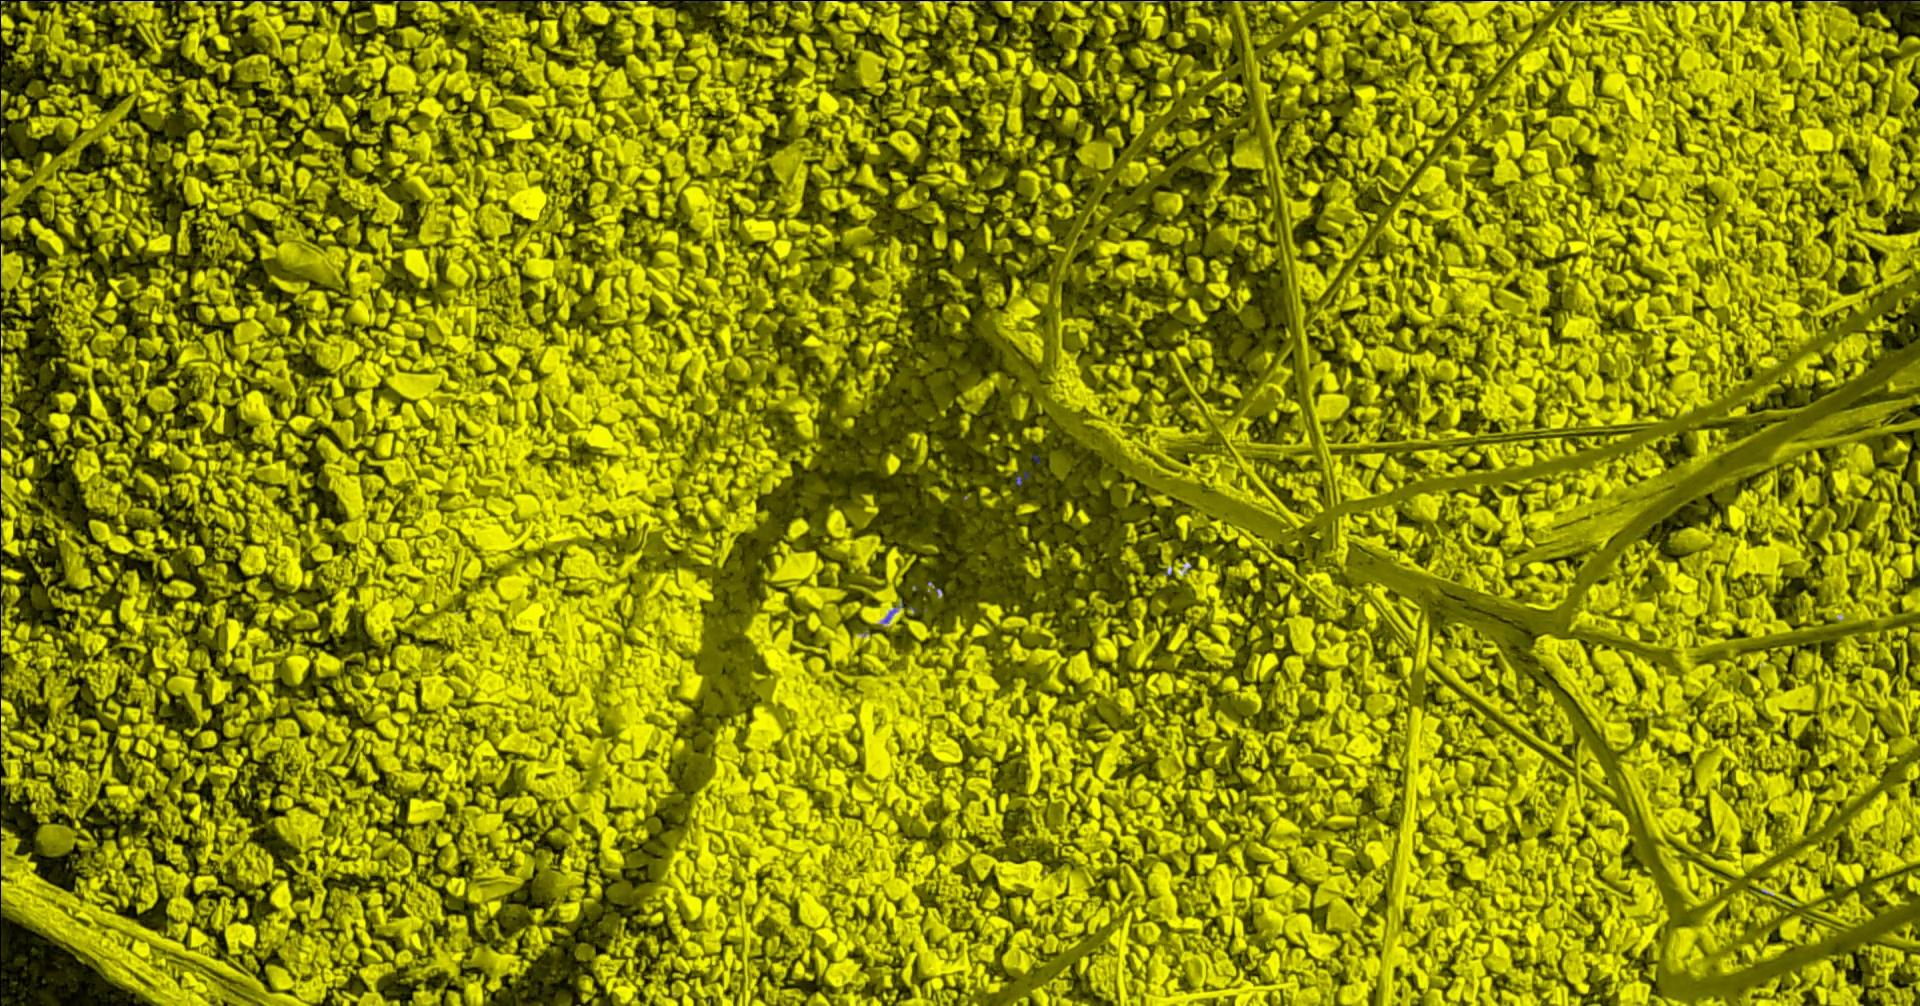ant: (1015, 471, 1029, 485)
